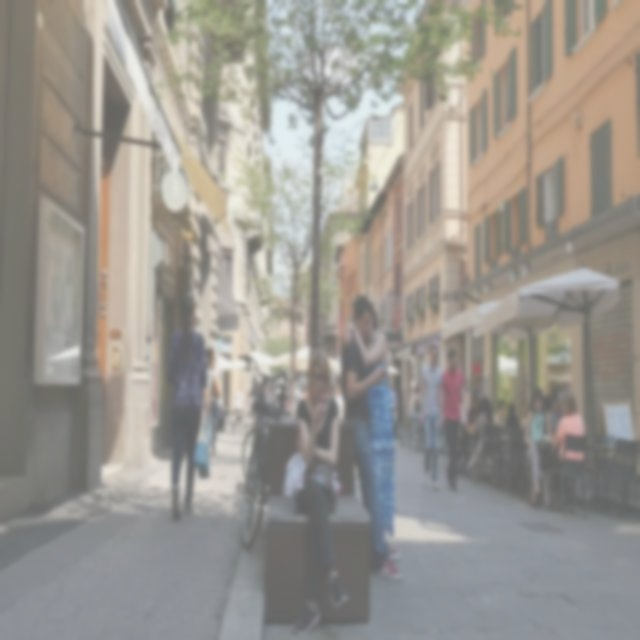pessoa: (282, 346, 350, 636), (338, 292, 403, 583), (341, 306, 395, 546), (164, 293, 212, 523), (547, 389, 587, 512), (417, 342, 444, 494), (441, 347, 469, 492), (524, 381, 548, 508), (260, 369, 306, 424), (468, 394, 494, 476), (524, 390, 544, 490), (205, 346, 222, 458), (407, 384, 425, 440), (546, 382, 565, 434), (330, 377, 346, 427), (388, 383, 401, 441), (232, 380, 245, 432), (466, 394, 481, 429), (504, 402, 522, 429), (493, 397, 508, 427), (472, 374, 483, 402)
